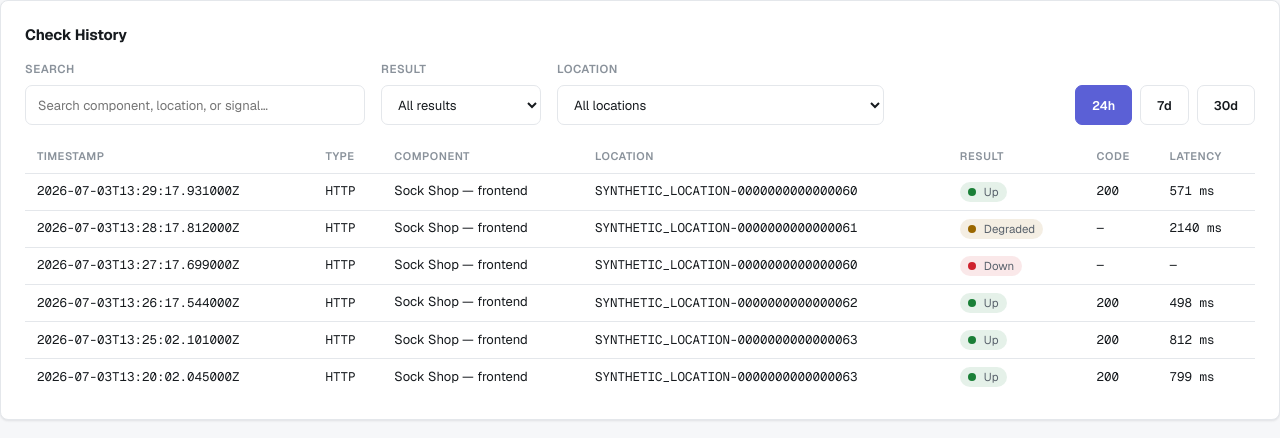
CheckHistoryPage › shows a distinct empty state when filters match nothing, without hiding that data exists (AC1, AC4)
The image size is (1280, 438).
Expected: the table is shown, [25, 141, 1255, 395]
Type "no-such-signal-or-component" into the search field labelled "Search" at x=195, y=105, box [25, 85, 365, 125]
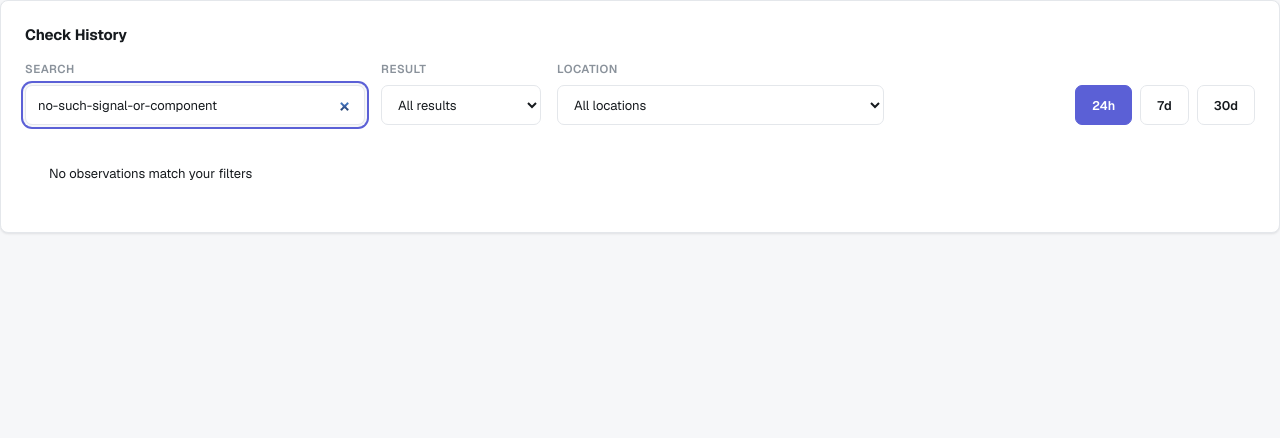
Expected: the text "No observations match your filters" is shown, [49, 165, 252, 184]
Expected: the table is gone
